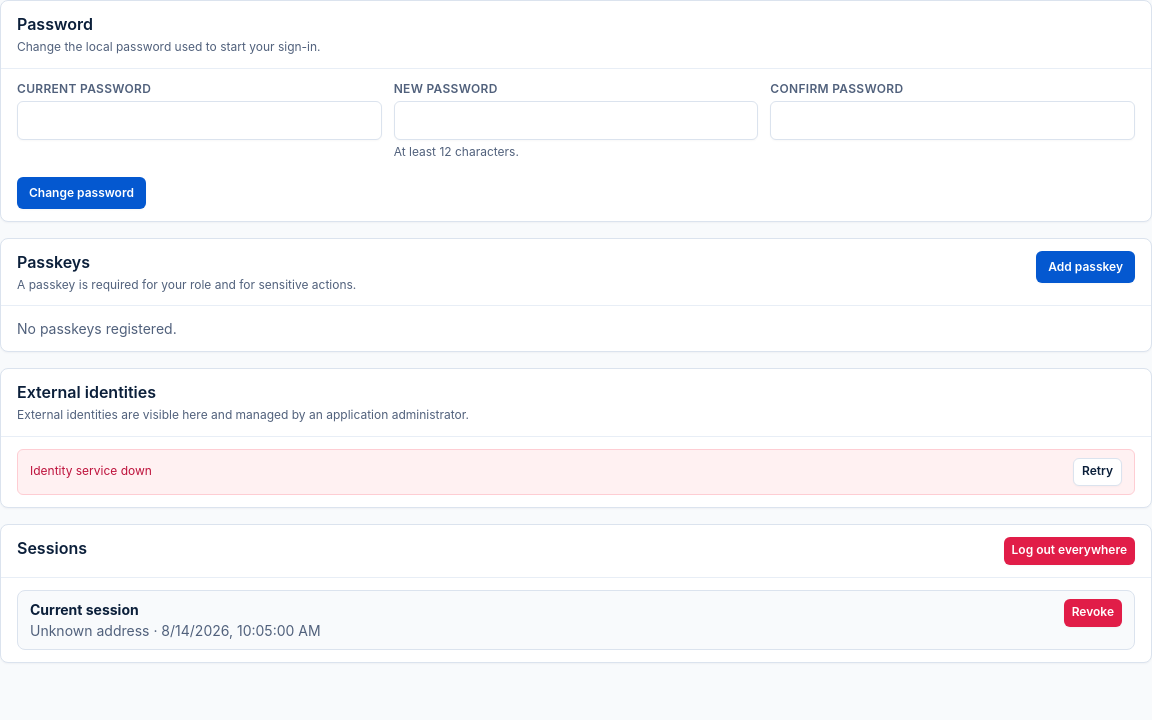
Test: SecurityPage › keeps successful sections visible when one security resource fails and retries only that section
The width and height of the screenshot is (1152, 720).
Expected: the text "Current session" is shown, [30,600,139,618]
Expected: the text "Identity service down" is shown, [30,463,152,480]
Click the button "Retry".
click(1098, 472)  # box [1073,458,1122,486]
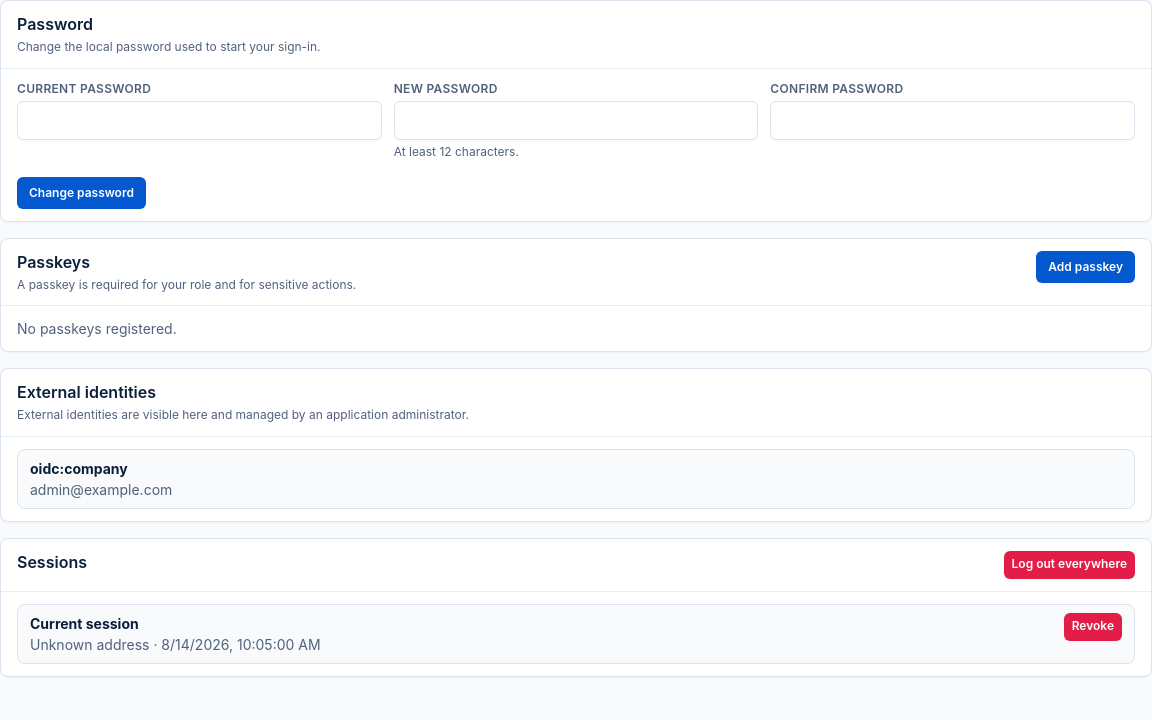
Expected: the text "oidc:company" is shown, [30,460,128,476]
